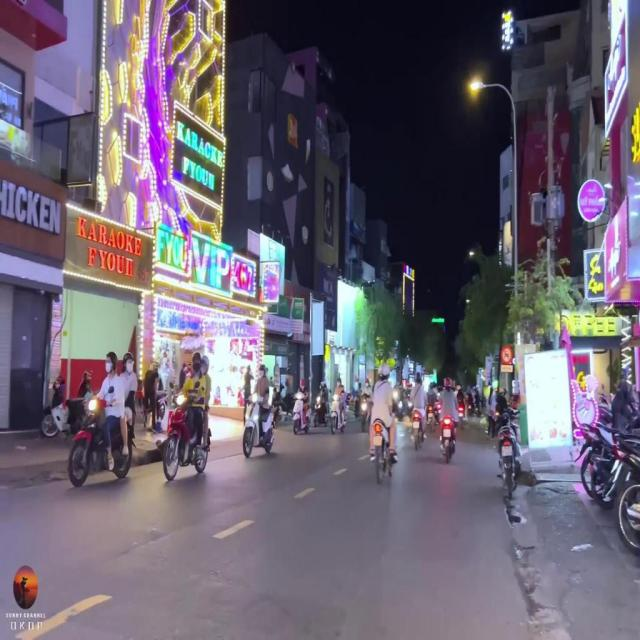cam_o_to: (501, 345, 513, 364)
khac: (500, 365, 512, 372)
